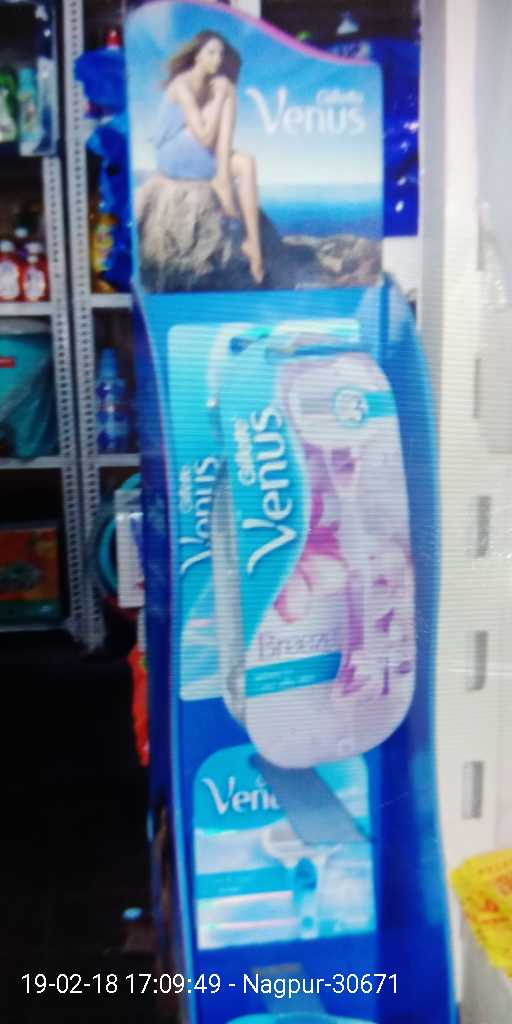venus: (224, 346, 414, 761), (191, 744, 378, 938)
